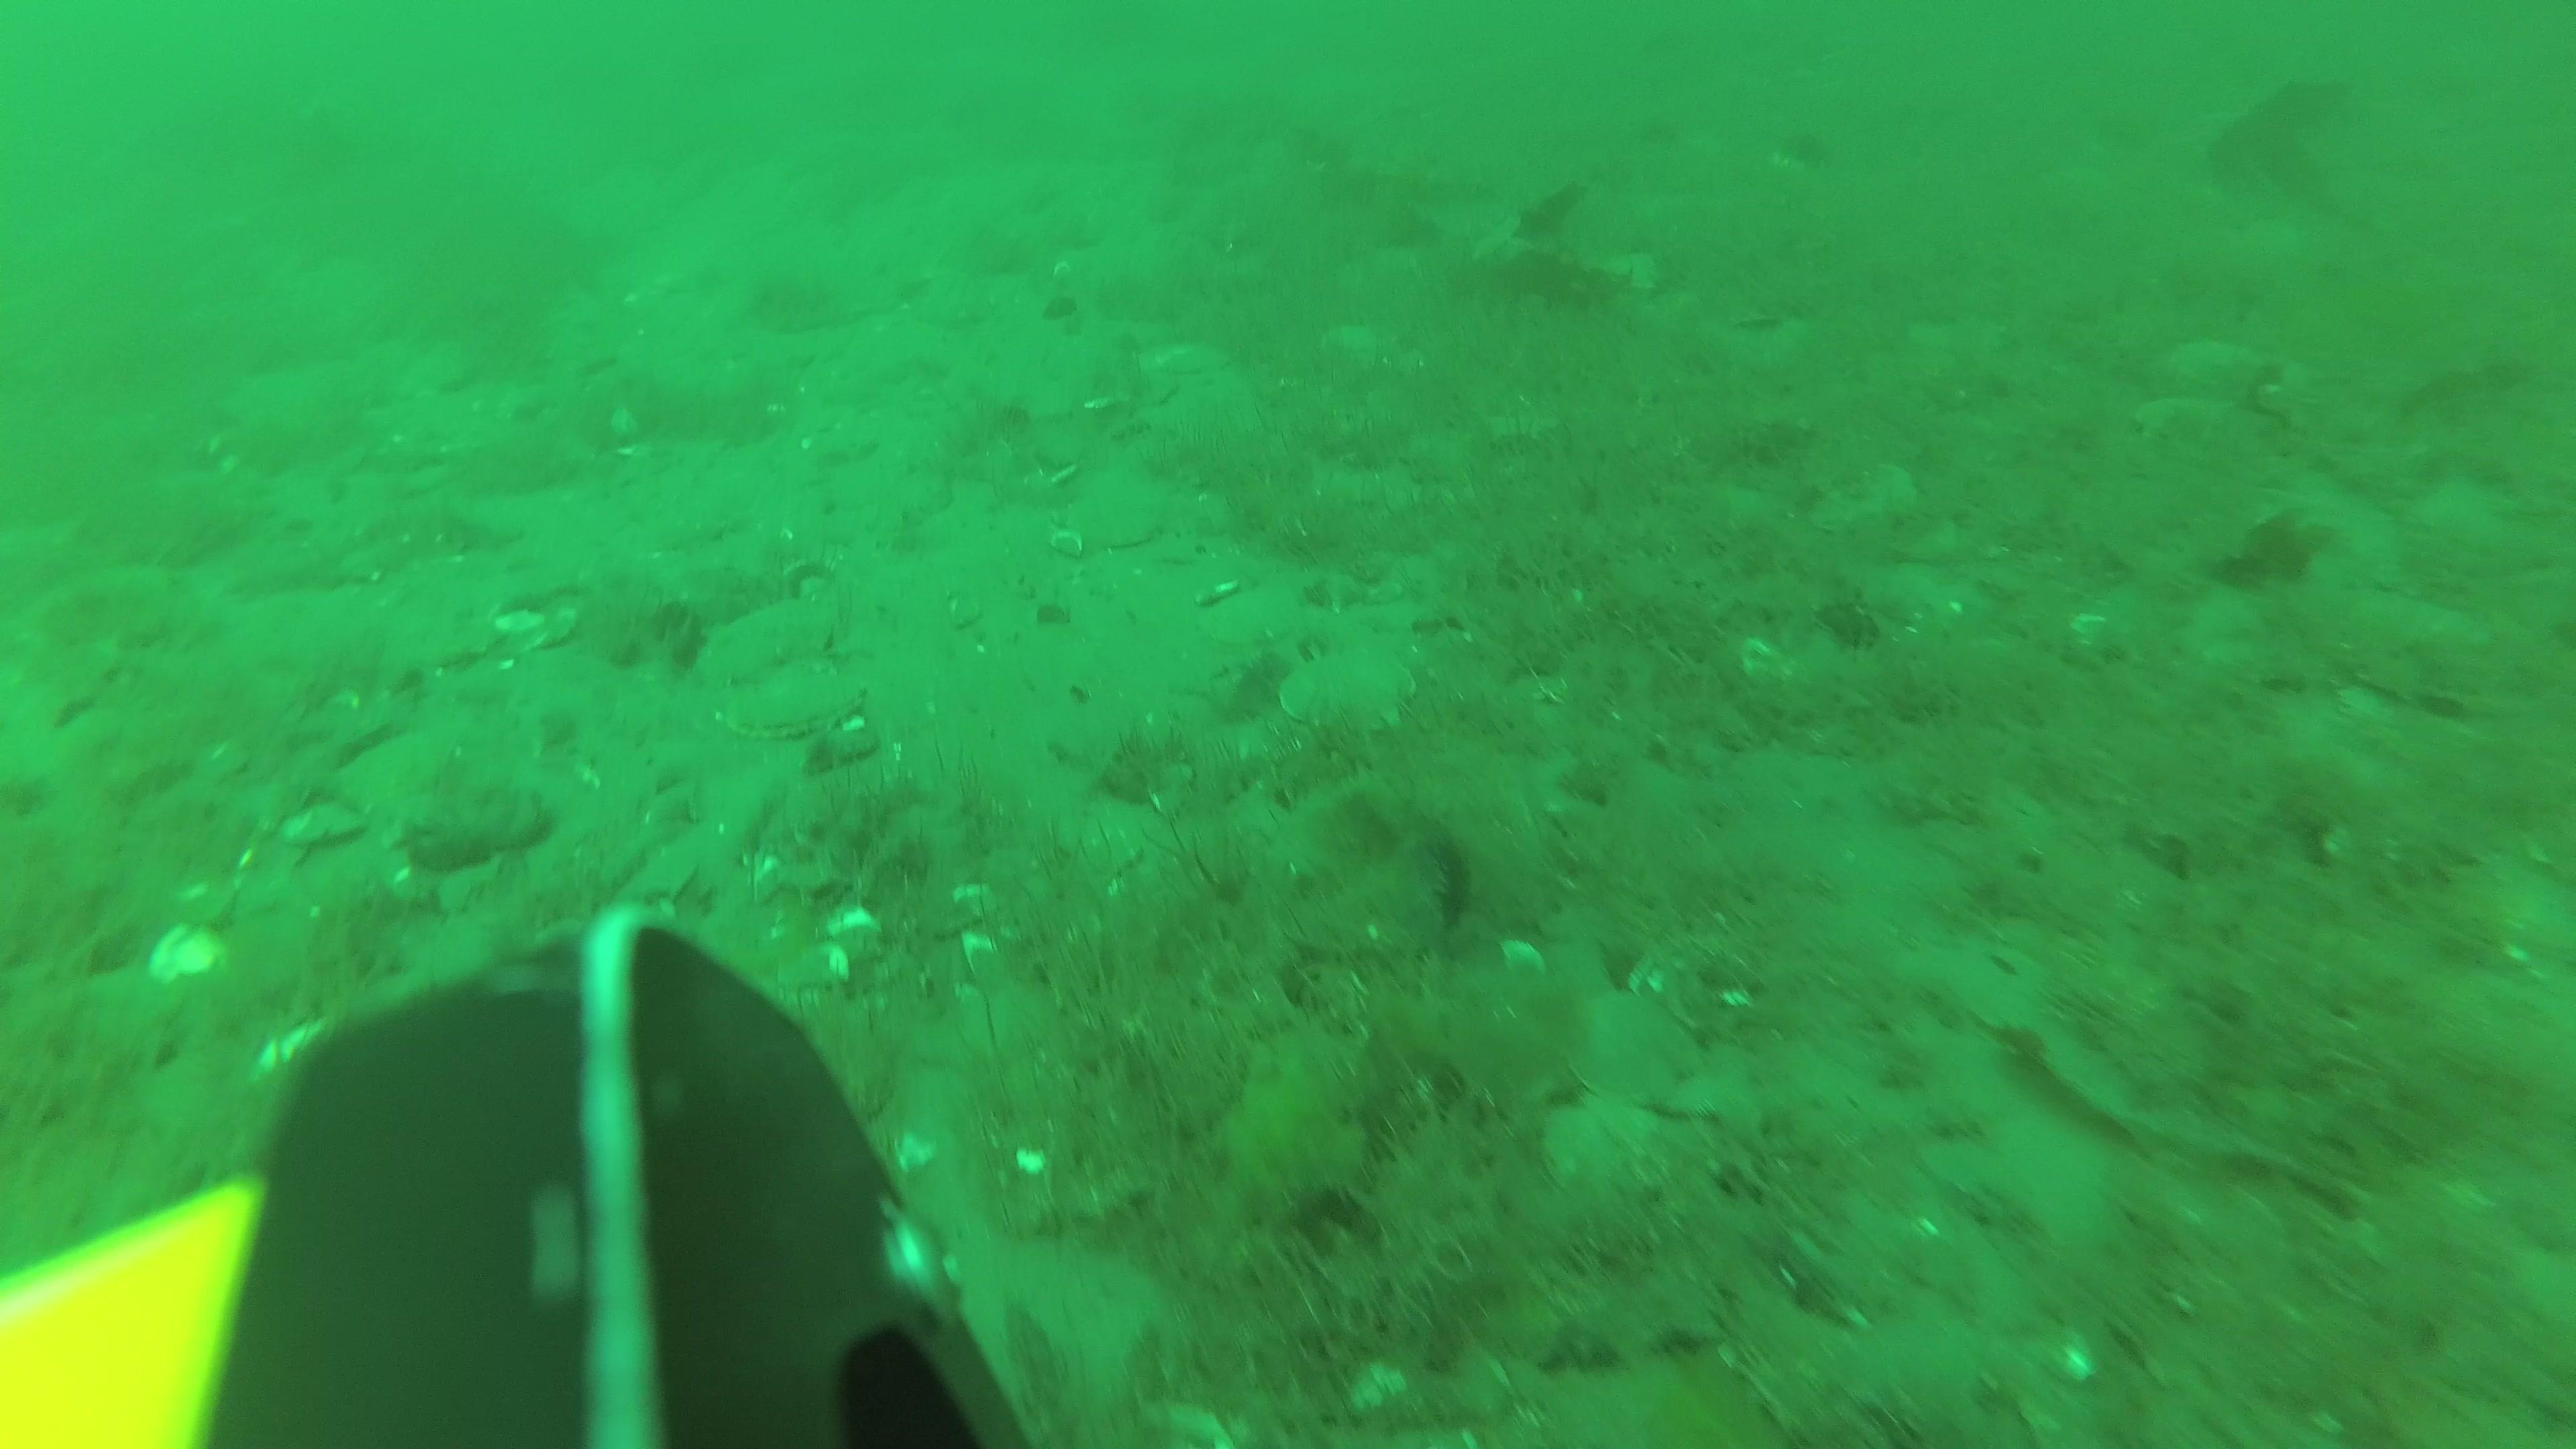scallop: (692, 594, 835, 694), (1575, 987, 1693, 1104), (1543, 1093, 1667, 1201), (718, 660, 870, 741), (1286, 648, 1414, 741), (1810, 460, 1916, 534), (1062, 474, 1162, 550), (1198, 582, 1295, 646), (2171, 331, 2263, 395), (2134, 395, 2233, 453)
